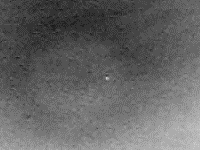Target: (106, 77, 108, 79)
